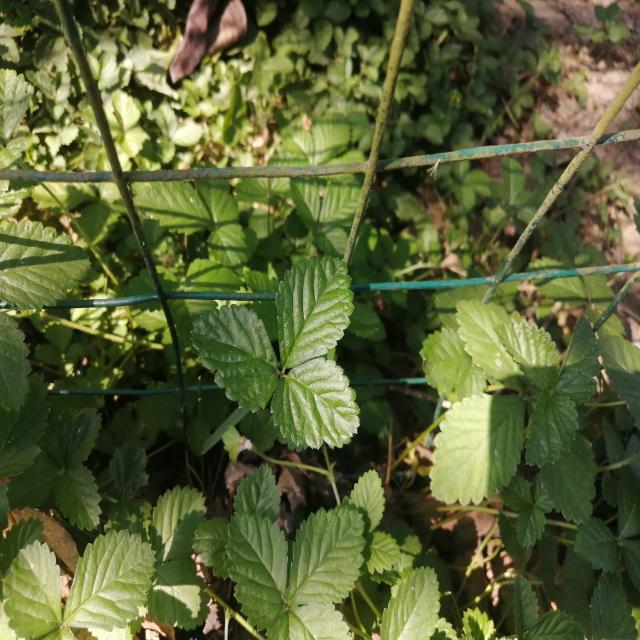Mock_strawberry: (458, 315, 607, 548), (176, 247, 373, 412)
